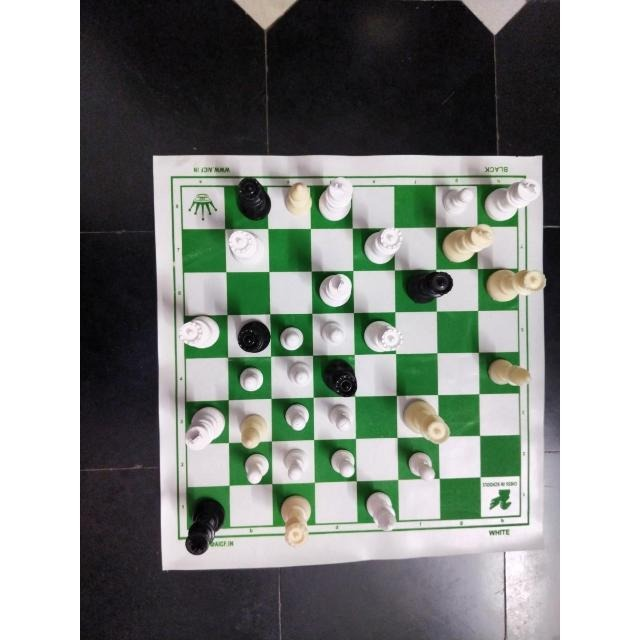black-king: (185, 496, 221, 554)
black-queen: (400, 269, 452, 303), (234, 177, 273, 219), (320, 360, 359, 396), (236, 320, 271, 352)
white-bishop: (364, 491, 398, 533), (487, 357, 533, 387), (238, 413, 268, 449), (285, 180, 313, 216)
white-king: (484, 177, 540, 221), (442, 223, 494, 263), (183, 404, 225, 452), (315, 177, 353, 221), (315, 271, 355, 309)
white-pawn: (281, 447, 312, 481), (325, 402, 355, 435), (282, 402, 313, 433), (442, 186, 474, 215), (236, 365, 268, 393), (243, 452, 271, 484), (327, 448, 357, 477), (278, 323, 307, 352), (409, 451, 437, 481), (319, 319, 347, 347), (285, 361, 313, 387)
white-queen: (399, 398, 453, 443), (486, 269, 546, 305), (278, 493, 314, 547), (361, 226, 403, 265), (178, 313, 221, 351), (359, 317, 404, 352), (227, 229, 267, 266)
